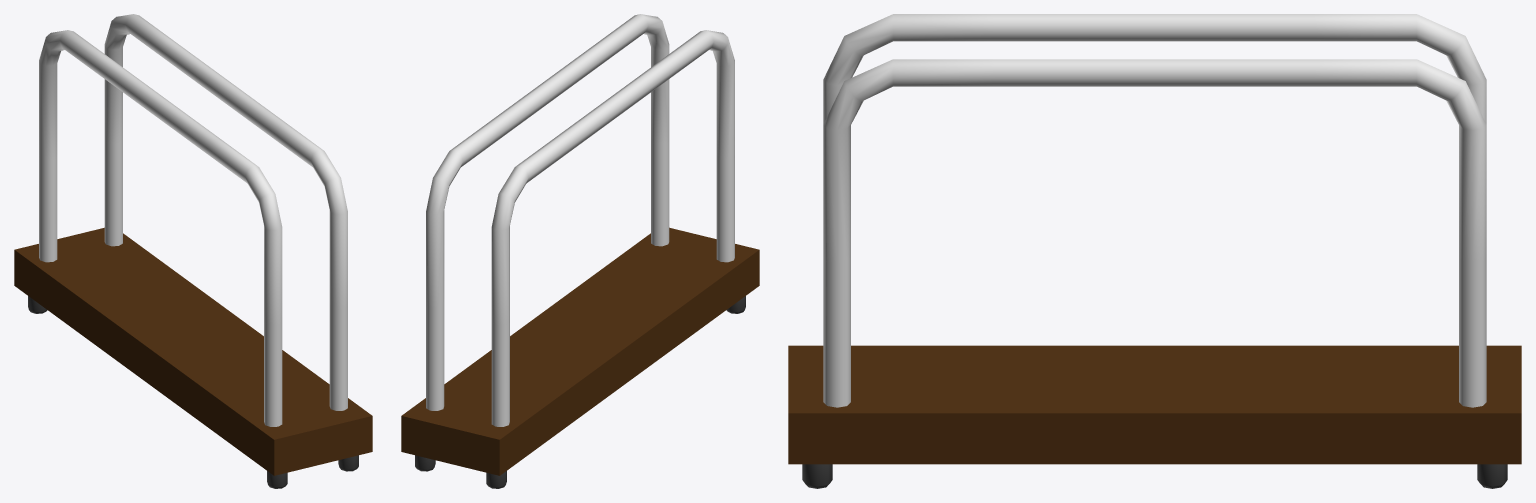
The model's file is DiscHolderV2.fbx.
3 views of the same model, side by side, from view 1: azimuth 30°, elevation 25°; view 2: azimuth 150°, elevation 25°; view 3: azimuth 270°, elevation 25° (orthographic). The views are drawn at different scales.
Visible parts, largest first — view 1: Base; view 2: Base; view 3: Base.
Boxes of the visible parts, left/top/right/bottom form: Base: left=14, top=14, right=372, bottom=488; Base: left=401, top=14, right=759, bottom=488; Base: left=788, top=14, right=1521, bottom=488.
Size of the model in its own units: 53.13 by 154 by 243.
